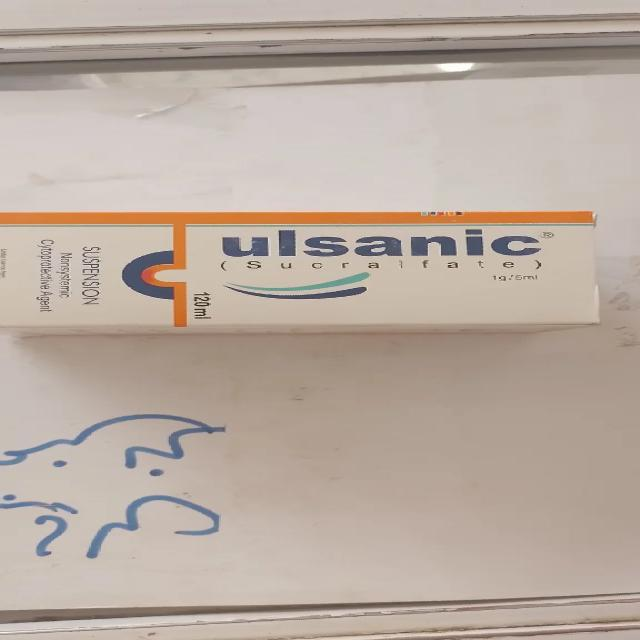drug-name: (216, 228, 542, 262)
